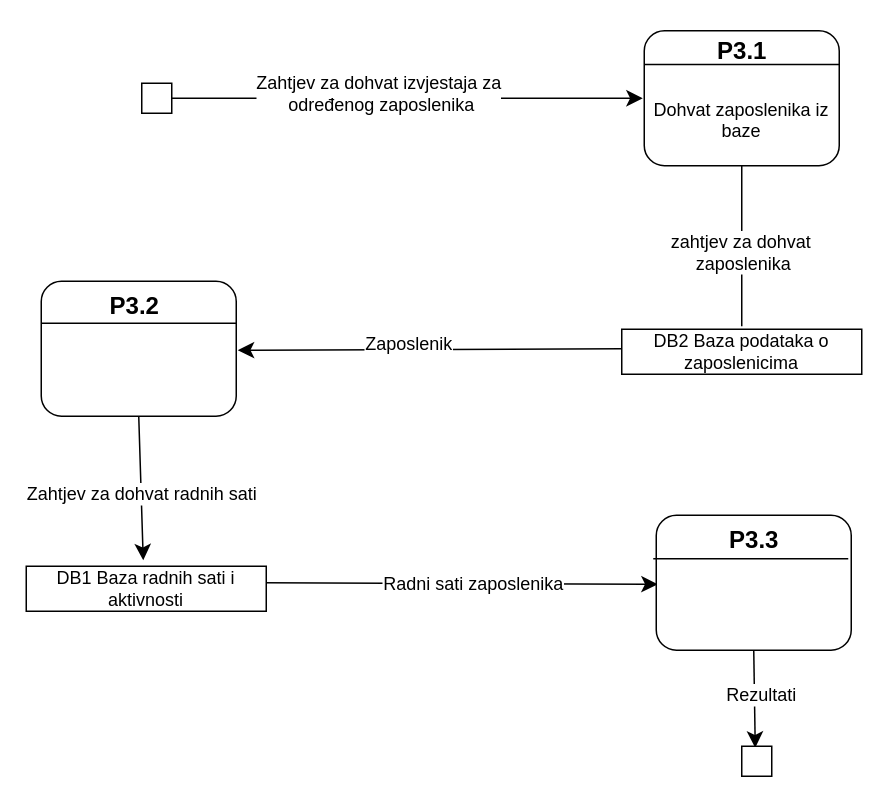
This 888x803 diagram has some shape labels left out. Here are the shapes that lost their labels. From the top down, the box of each, then its label:
(40, 280, 236, 416): Dohvat radnih sati zaposlenika
(655, 514, 851, 650): Slanje generiranog izvještaja
